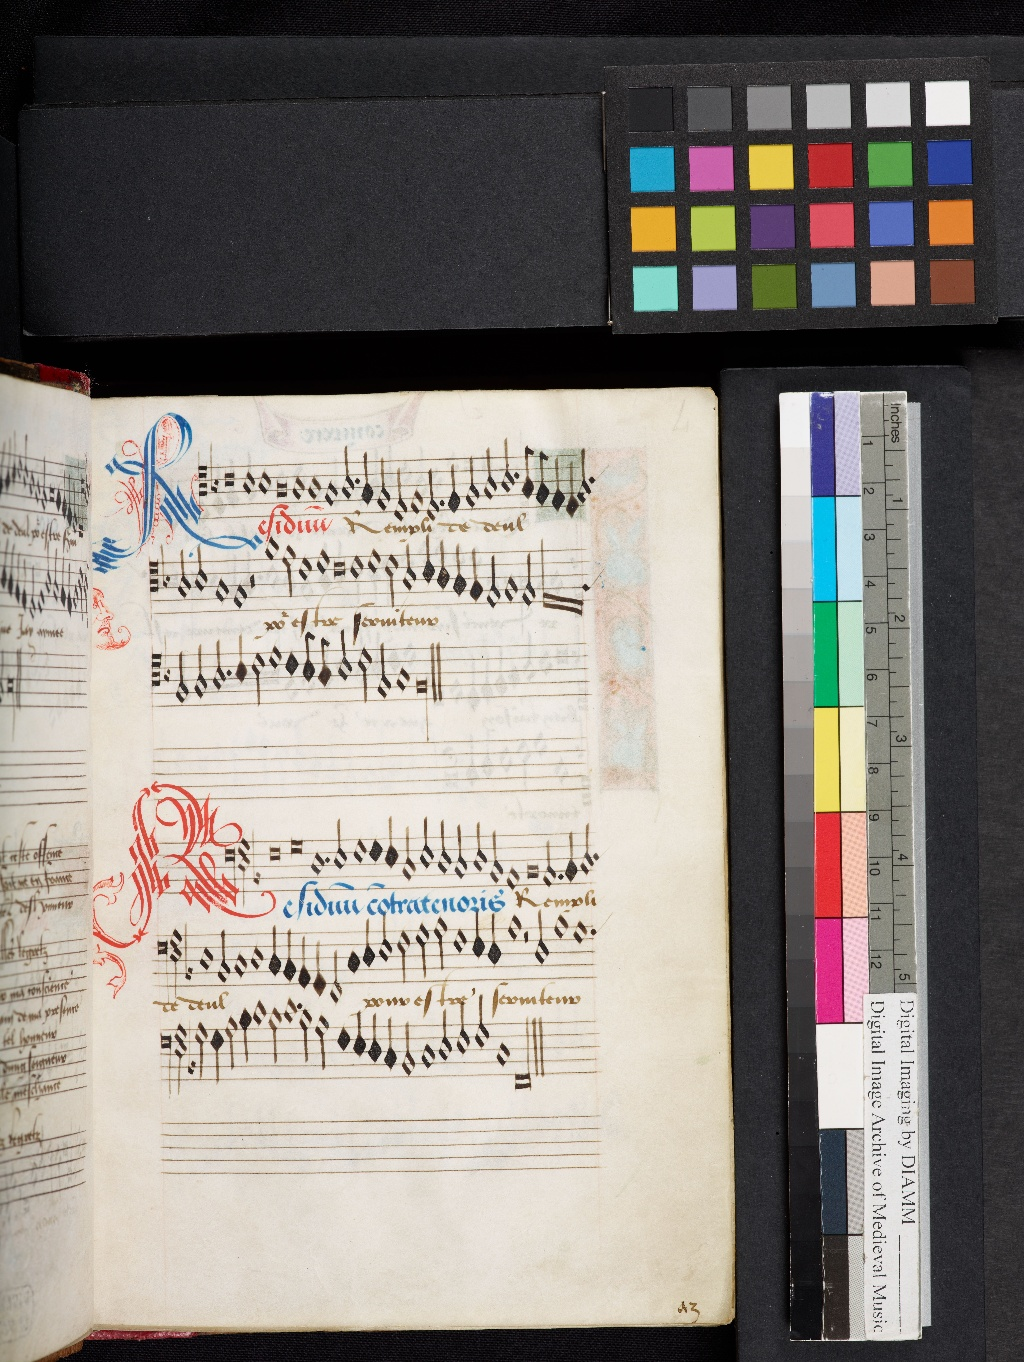barline: (529, 1007, 549, 1087)
colored semibreve_5: (332, 1017, 354, 1059)
f clef_5: (152, 1017, 185, 1096)
flat_9: (182, 1045, 199, 1080)
longa_12: (509, 1015, 532, 1097)
minim_2: (265, 1004, 285, 1070), (295, 1005, 314, 1069)
minim_3: (312, 1009, 330, 1077), (222, 1010, 239, 1079)
minim_4: (191, 1017, 209, 1084)
minim_5: (472, 1002, 492, 1054)
minim_6: (454, 1002, 472, 1060)
minim_7: (435, 1005, 454, 1069)
minim_9: (399, 1015, 417, 1086)
point: (289, 1002, 302, 1015)
semibreve_1: (250, 1002, 269, 1032), (280, 1002, 297, 1027)
semibreve_8: (492, 1032, 514, 1075), (417, 1034, 437, 1077)
semiminim_2: (237, 1004, 252, 1069)
semiminim_5: (207, 1022, 225, 1089)
semiminim_6: (352, 1004, 367, 1065)
semiminim_7: (367, 1005, 382, 1070)
semiminim_8: (382, 1010, 399, 1077)
